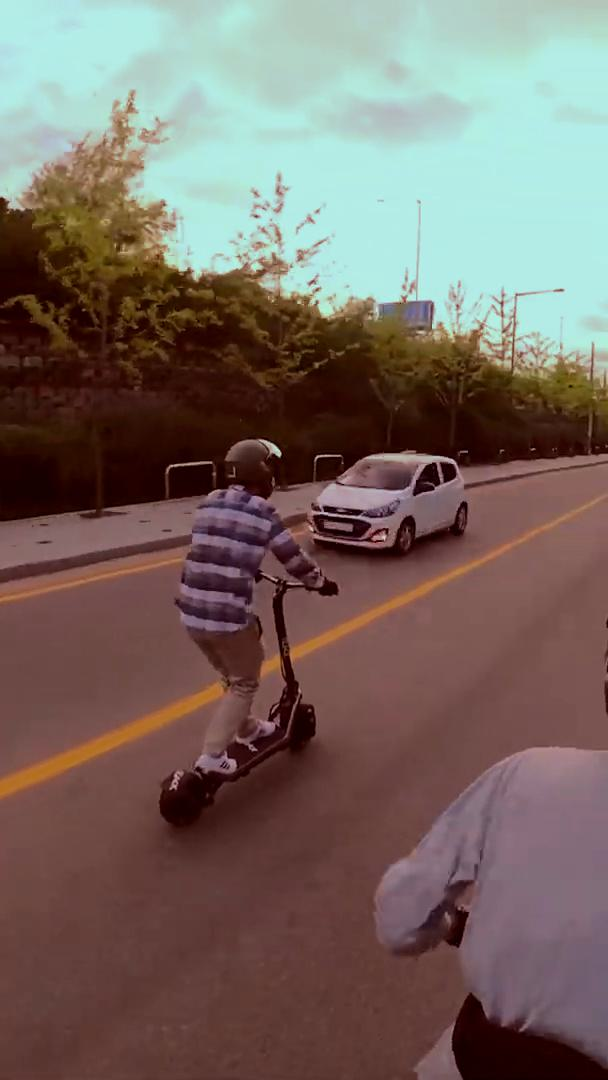helmet: (153, 434, 343, 831)
